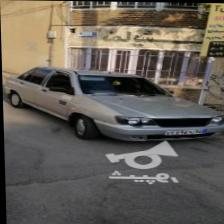plate: (165, 126, 208, 134)
